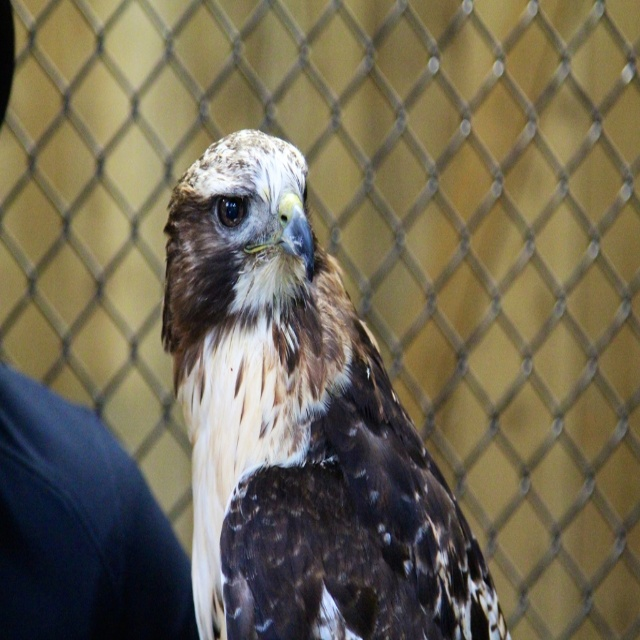Eagle: (157, 129, 514, 640)
